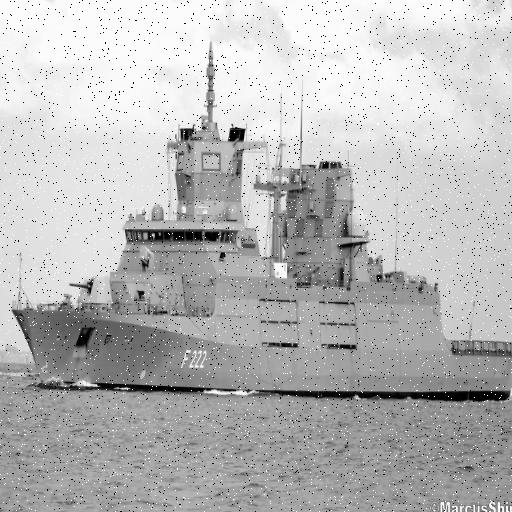Fragata: (14, 124, 512, 403)
